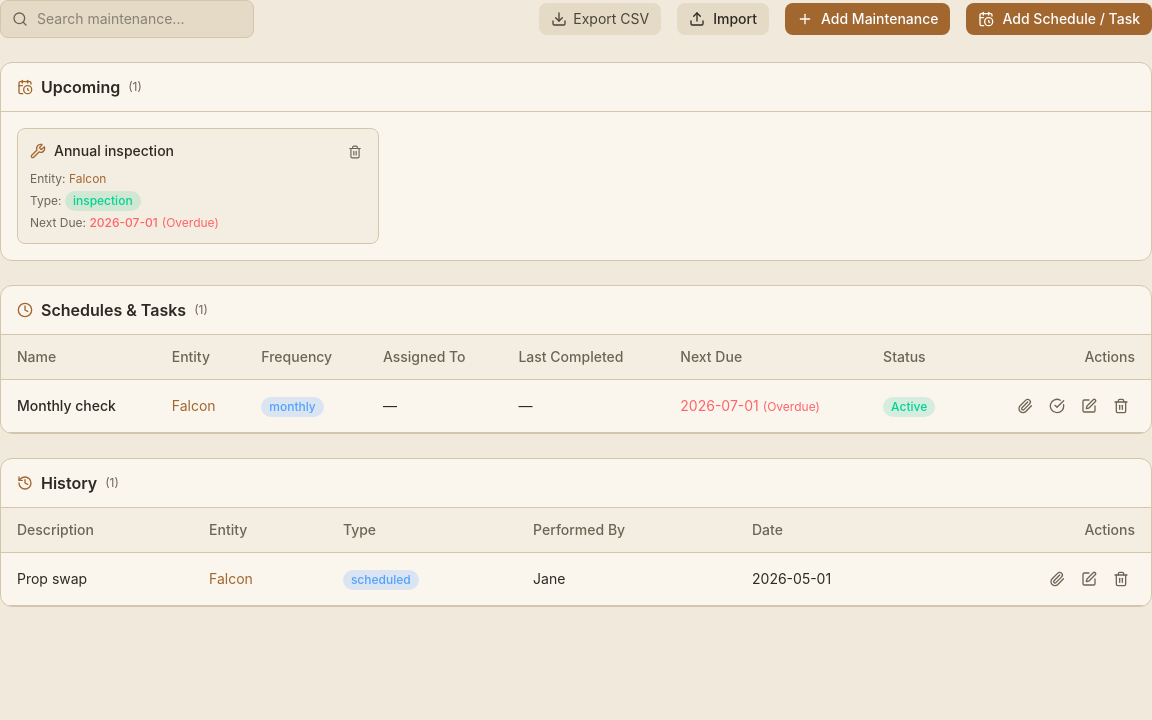
MaintenancePage › excludes retired entities from the Add Maintenance and Add Schedule dropdowns
This screenshot has width=1152, height=720.
Expected: the text "Prop swap" is shown, [1, 552, 193, 606]
Click the button "Add Maintenance": (868, 19) [785, 3, 950, 35]
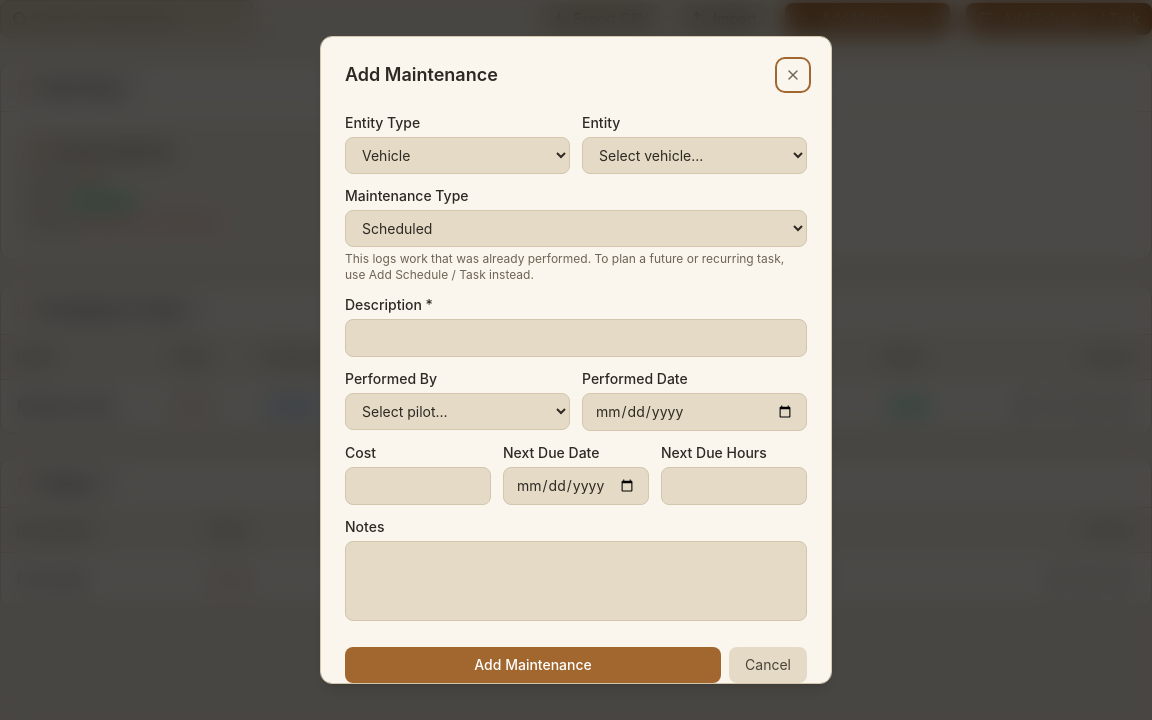
Expected: the dropdown labelled "Entity" does not show "OldBird", [582, 137, 807, 174]
Expected: the heading "Add Maintenance" is shown, [345, 61, 498, 89]
Click the button "Cancel": (768, 665) [729, 647, 807, 683]
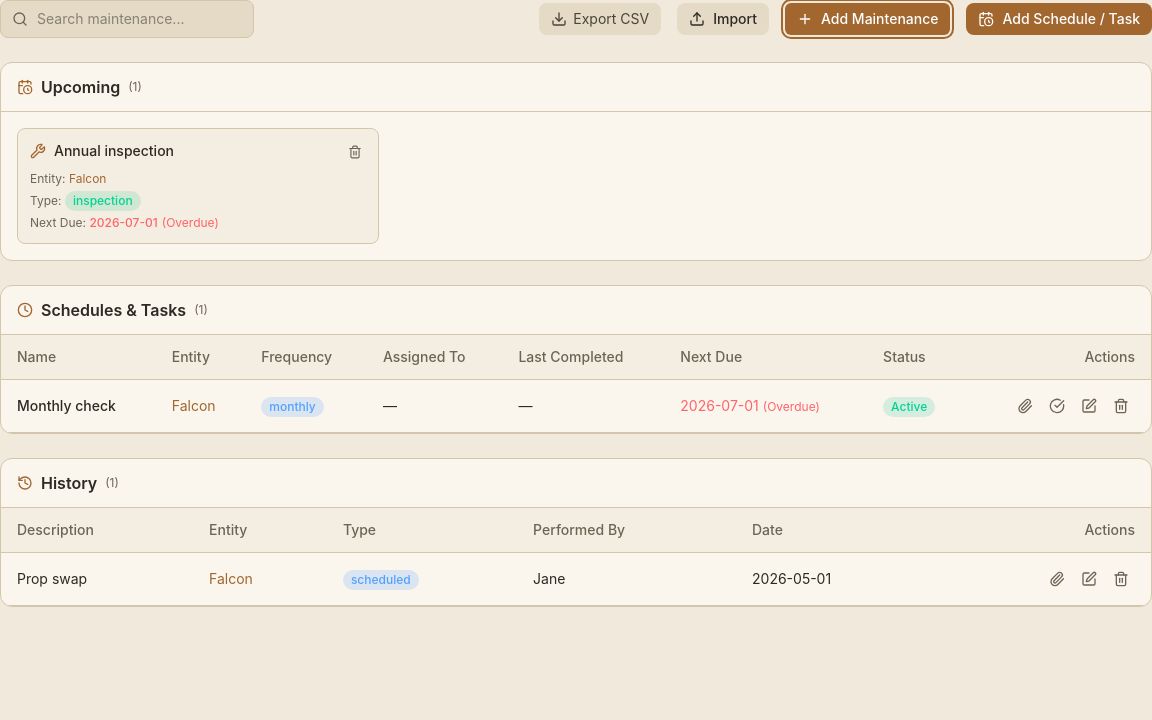
Click the button "Add Schedule / Task": (1059, 19) [966, 3, 1151, 35]
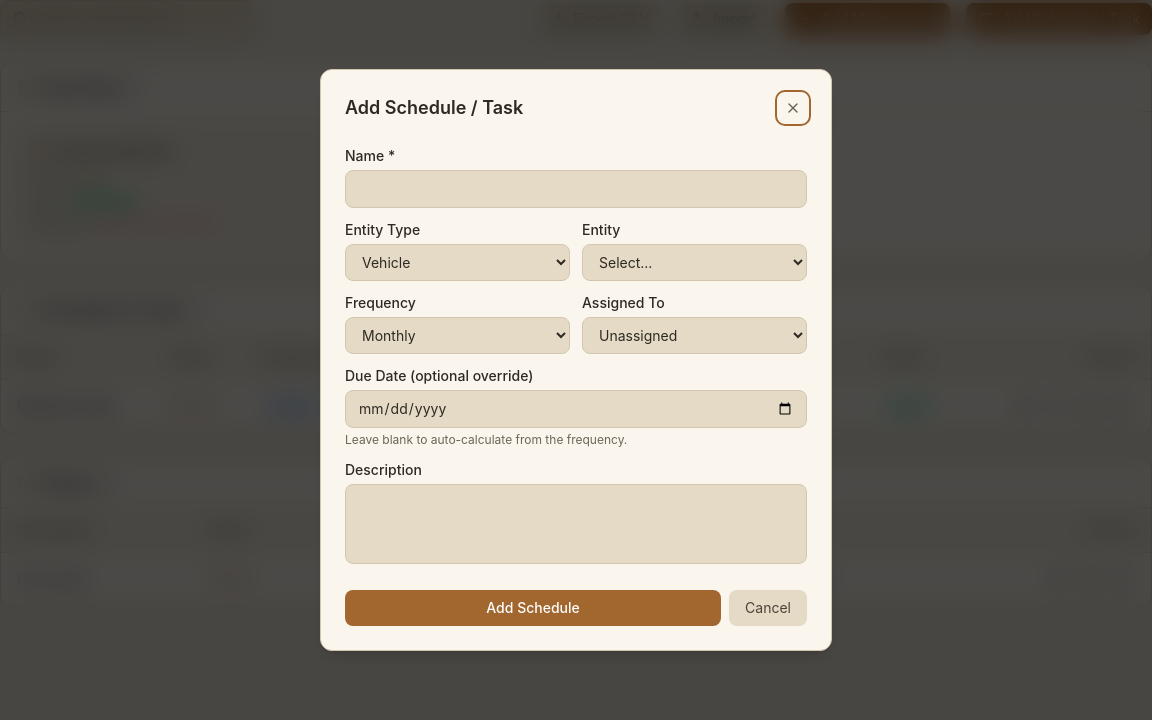
Expected: the dropdown labelled "Entity" does not show "OldBird", [582, 244, 807, 281]
Expected: the heading "Add Schedule / Task" is shown, [345, 94, 523, 122]
